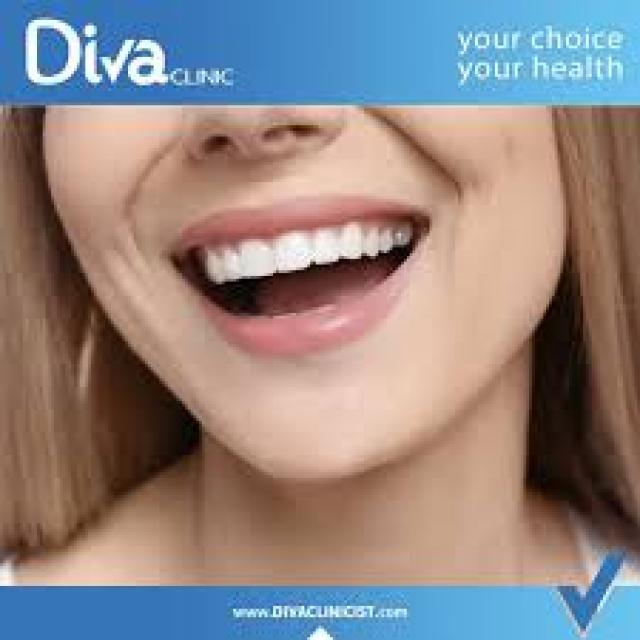tooth: (281, 233, 313, 273), (247, 239, 276, 276), (316, 228, 341, 264), (347, 225, 364, 259), (208, 250, 225, 282), (230, 253, 242, 282), (367, 228, 378, 256), (382, 228, 396, 250), (401, 219, 413, 242)
